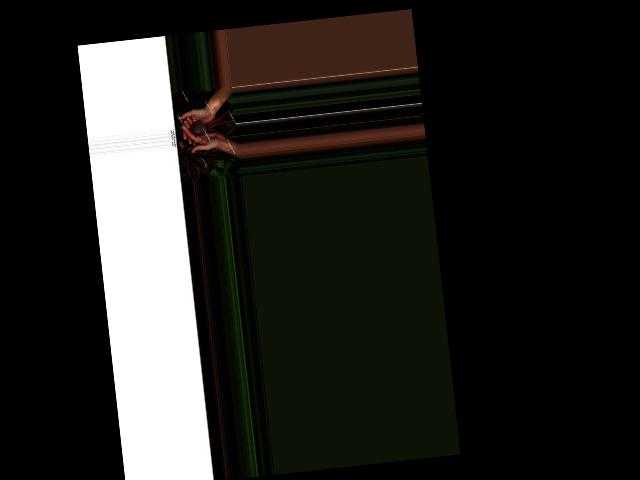beet: (187, 108, 235, 140)
